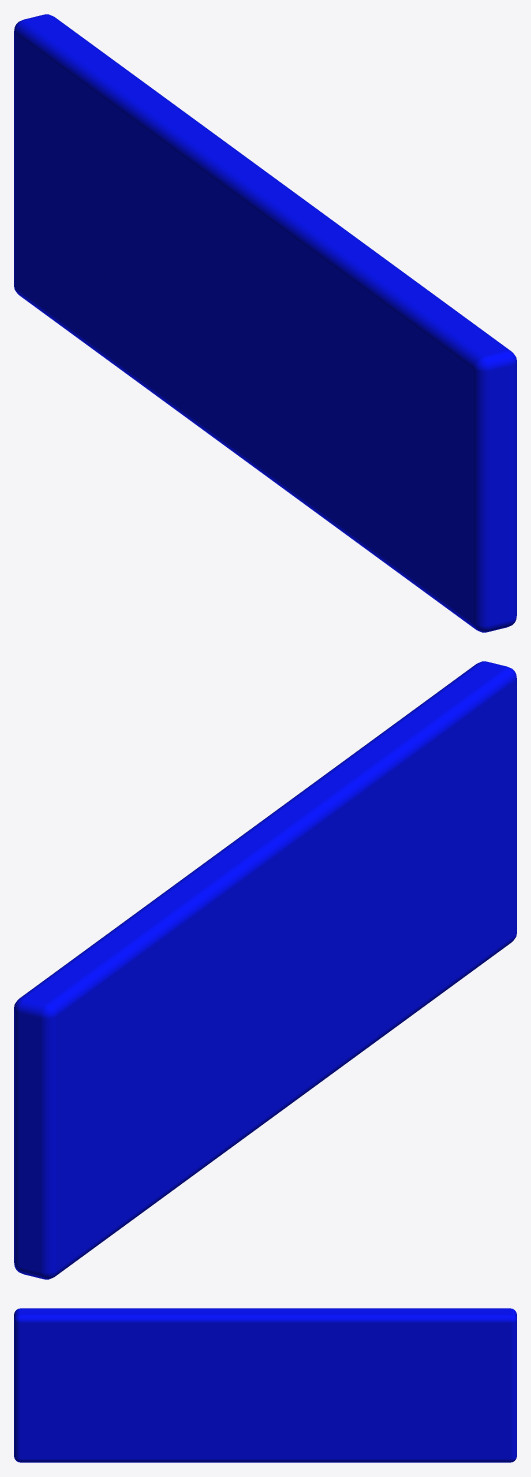
The model's file is Wall.glb.
The picture shows the model from 3 angles, top to bottom: view 1: azimuth 30°, elevation 25°; view 2: azimuth 150°, elevation 25°; view 3: azimuth 270°, elevation 25°; orthographic projection. The views are drawn at different scales.
Visible parts, largest first — view 1: Box; view 2: Box; view 3: Box.
Boxes of the visible parts, x1,y1,x2,y2 form: Box: (14, 14, 516, 632); Box: (14, 661, 516, 1279); Box: (14, 1308, 516, 1462).
Bounding box in the file's own units: 0.1762 × 1.11 × 3.43.
